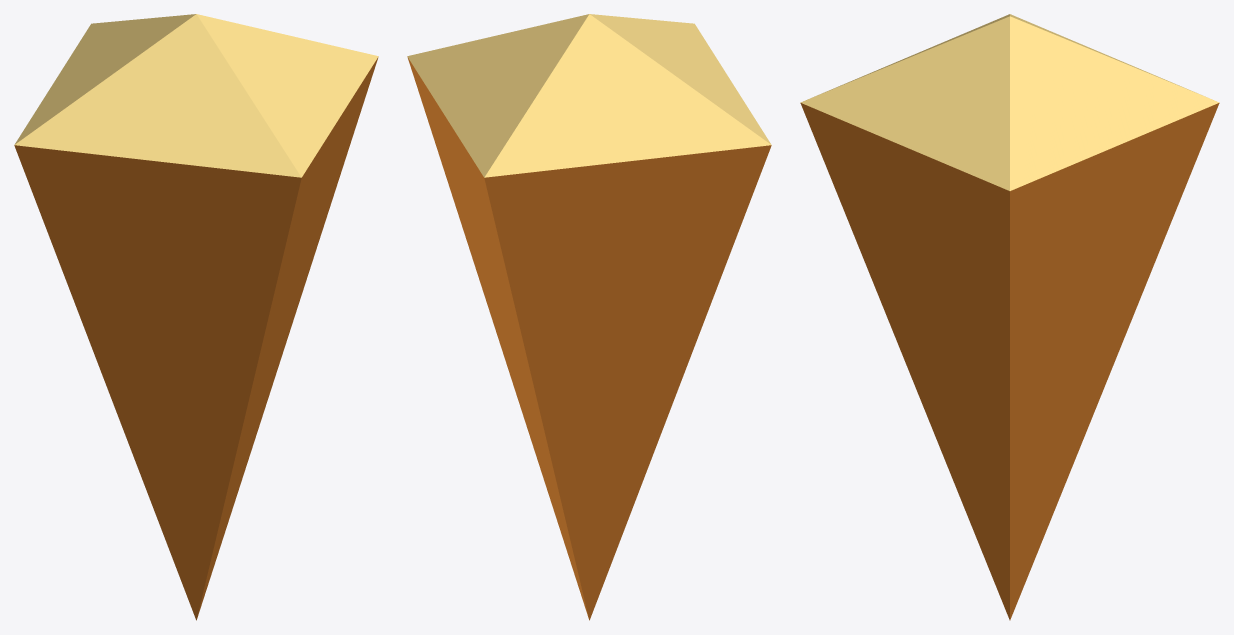
The model's file is hawk_mark.glb.
3 renders of one model, left to right at view 1: azimuth 30°, elevation 25°; view 2: azimuth 150°, elevation 25°; view 3: azimuth 270°, elevation 25°, orthographic.
Visible parts, largest first — view 1: hawk_mark; view 2: hawk_mark; view 3: hawk_mark.
Part boxes in pixels (bbox=[...]): hawk_mark: bbox=[14, 14, 378, 620]; hawk_mark: bbox=[407, 14, 771, 620]; hawk_mark: bbox=[800, 14, 1219, 620].
Size of the model in its own units: 0.22 by 0.35 by 0.22.
Materials: 1 (1 with a texture image).
